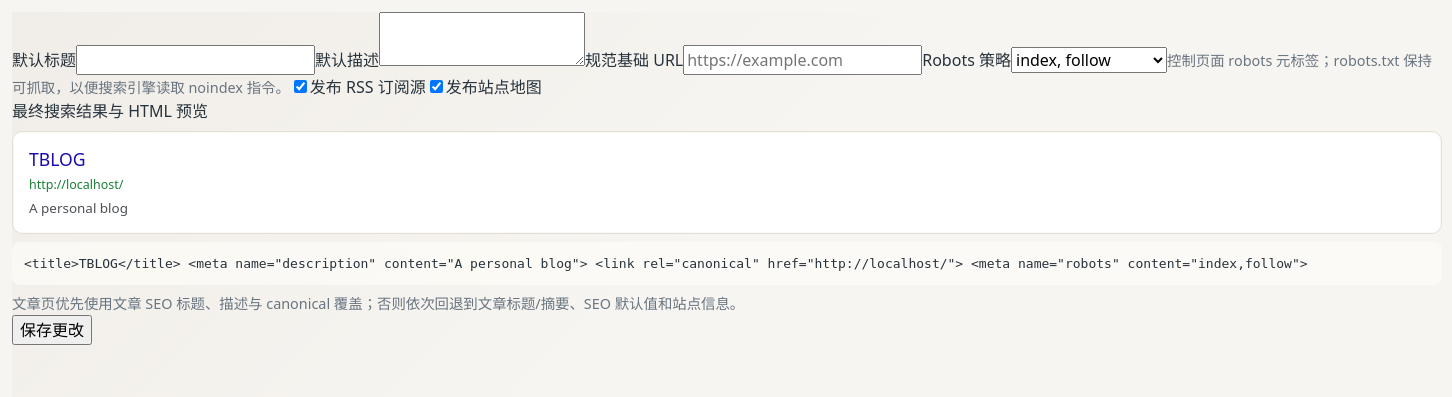
Test: SettingsDomainPanel › shows a validation summary and forwards issues on validation_failed
This screenshot has width=1452, height=397.
Click the button with test id "settings-save": click(52, 330) [12,315,92,345]
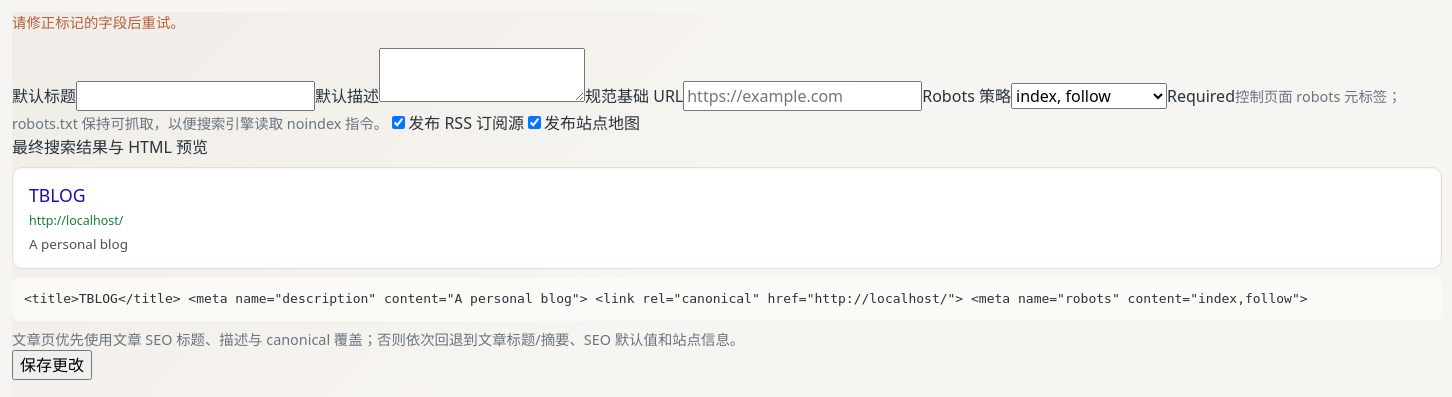
Check: the dropdown with test id "seo-robots" is shown, box [1011,83,1167,109]
Check: the message with test id "settings-save-error" shows "修正标记的字段", box [12,13,185,32]
Check: the text "Required" is shown, box [1167,85,1235,107]
